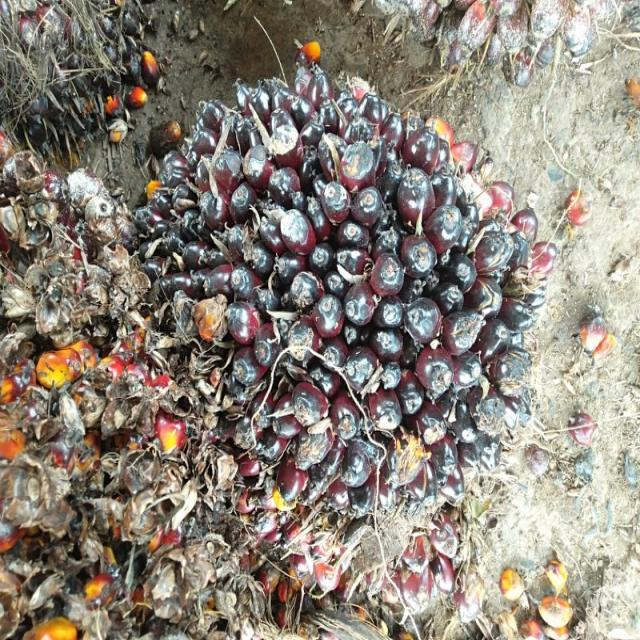fraksi 00: (132, 63, 558, 544)
